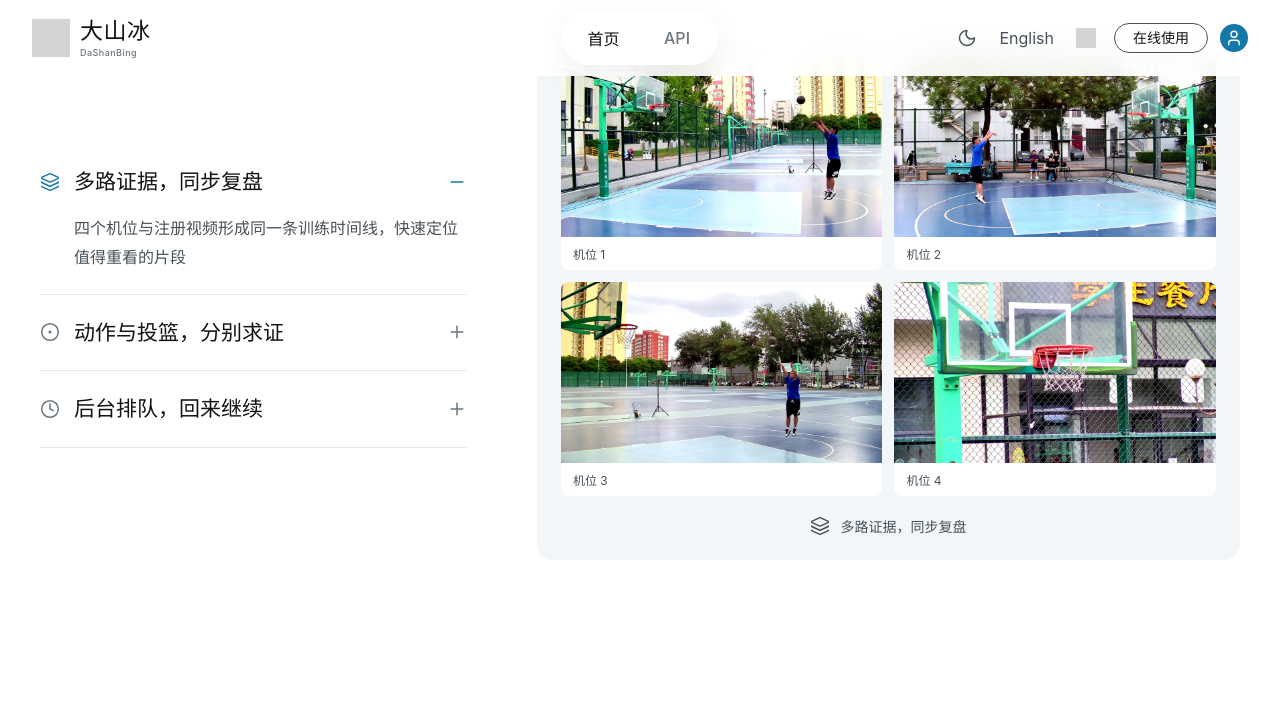
Test: public foundation › capability accordion reveals the selected explanation and closes the previous one
(page scrolled)
Step 1. Click the button "后台排队，回来继续" → x=253, y=409, box [40,393,467,424]
(page scrolled)
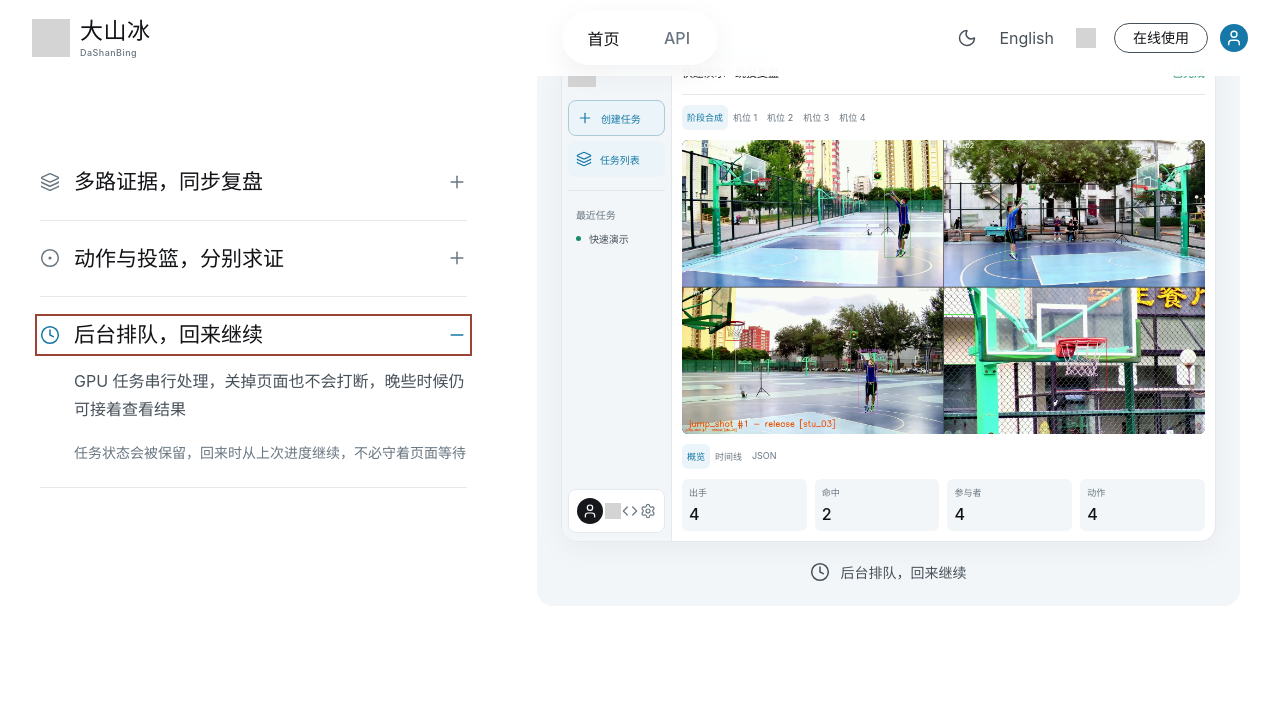
Result: the button "后台排队，回来继续" is expanded at [40,319,467,351]
Result: the button "多路证据，同步复盘" is collapsed at [40,166,467,198]
Result: the text "任务状态会被保留，回来时从上次进度继续，不必守着页面等待" is shown at [74,440,467,465]
